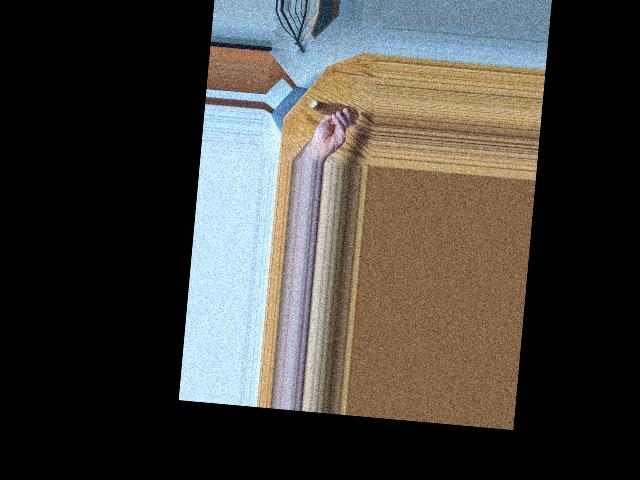sweet_potato: (304, 99, 359, 119)
